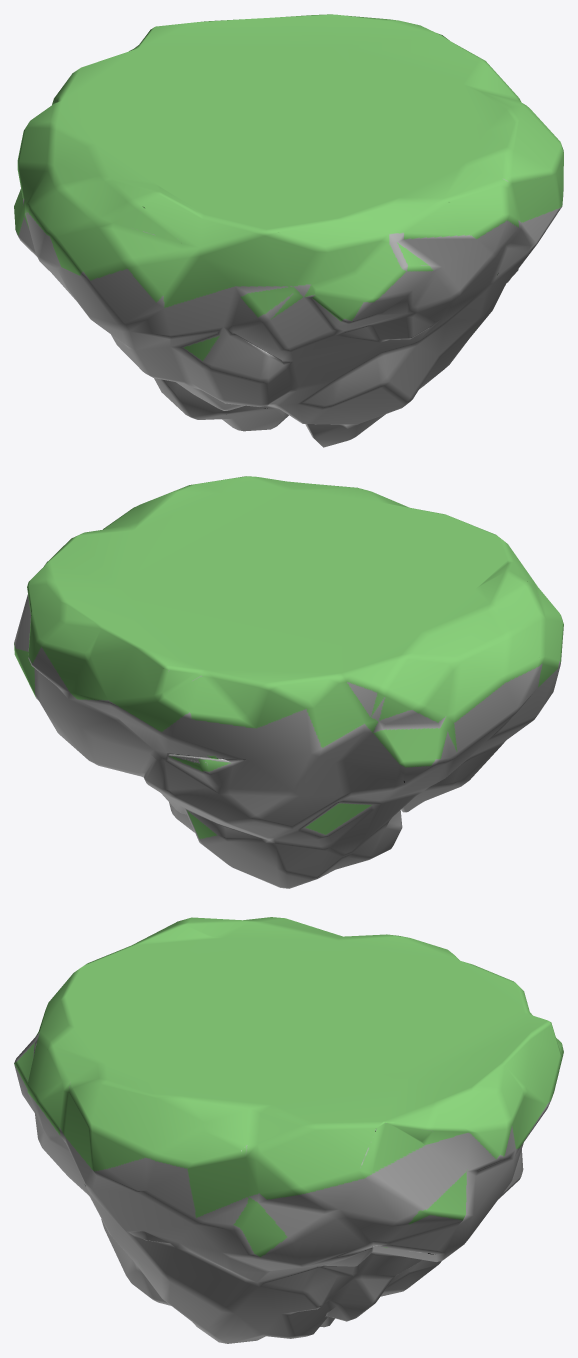
File: land.glb
The picture shows the model from 3 angles, top to bottom: view 1: azimuth 30°, elevation 25°; view 2: azimuth 150°, elevation 25°; view 3: azimuth 270°, elevation 25°; orthographic projection. The views are drawn at different scales.
Visible parts, largest first — view 1: Cube.006; view 2: Cube.006; view 3: Cube.006.
Part boxes in pixels (box(x1,y1,x2,y2)): Cube.006: box(14, 14, 563, 447); Cube.006: box(14, 476, 563, 888); Cube.006: box(14, 917, 563, 1343).
Bounding box in the file's own units: 12.47 × 7.69 × 11.94.
1 material, 1 textured.
